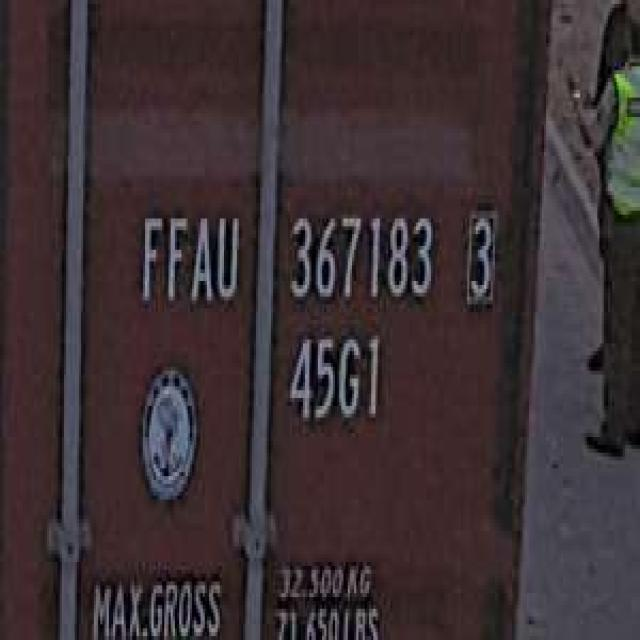dv: (459, 199, 499, 312)
owner: (132, 203, 241, 316)
serial: (284, 203, 437, 312)
size: (282, 324, 384, 433)
